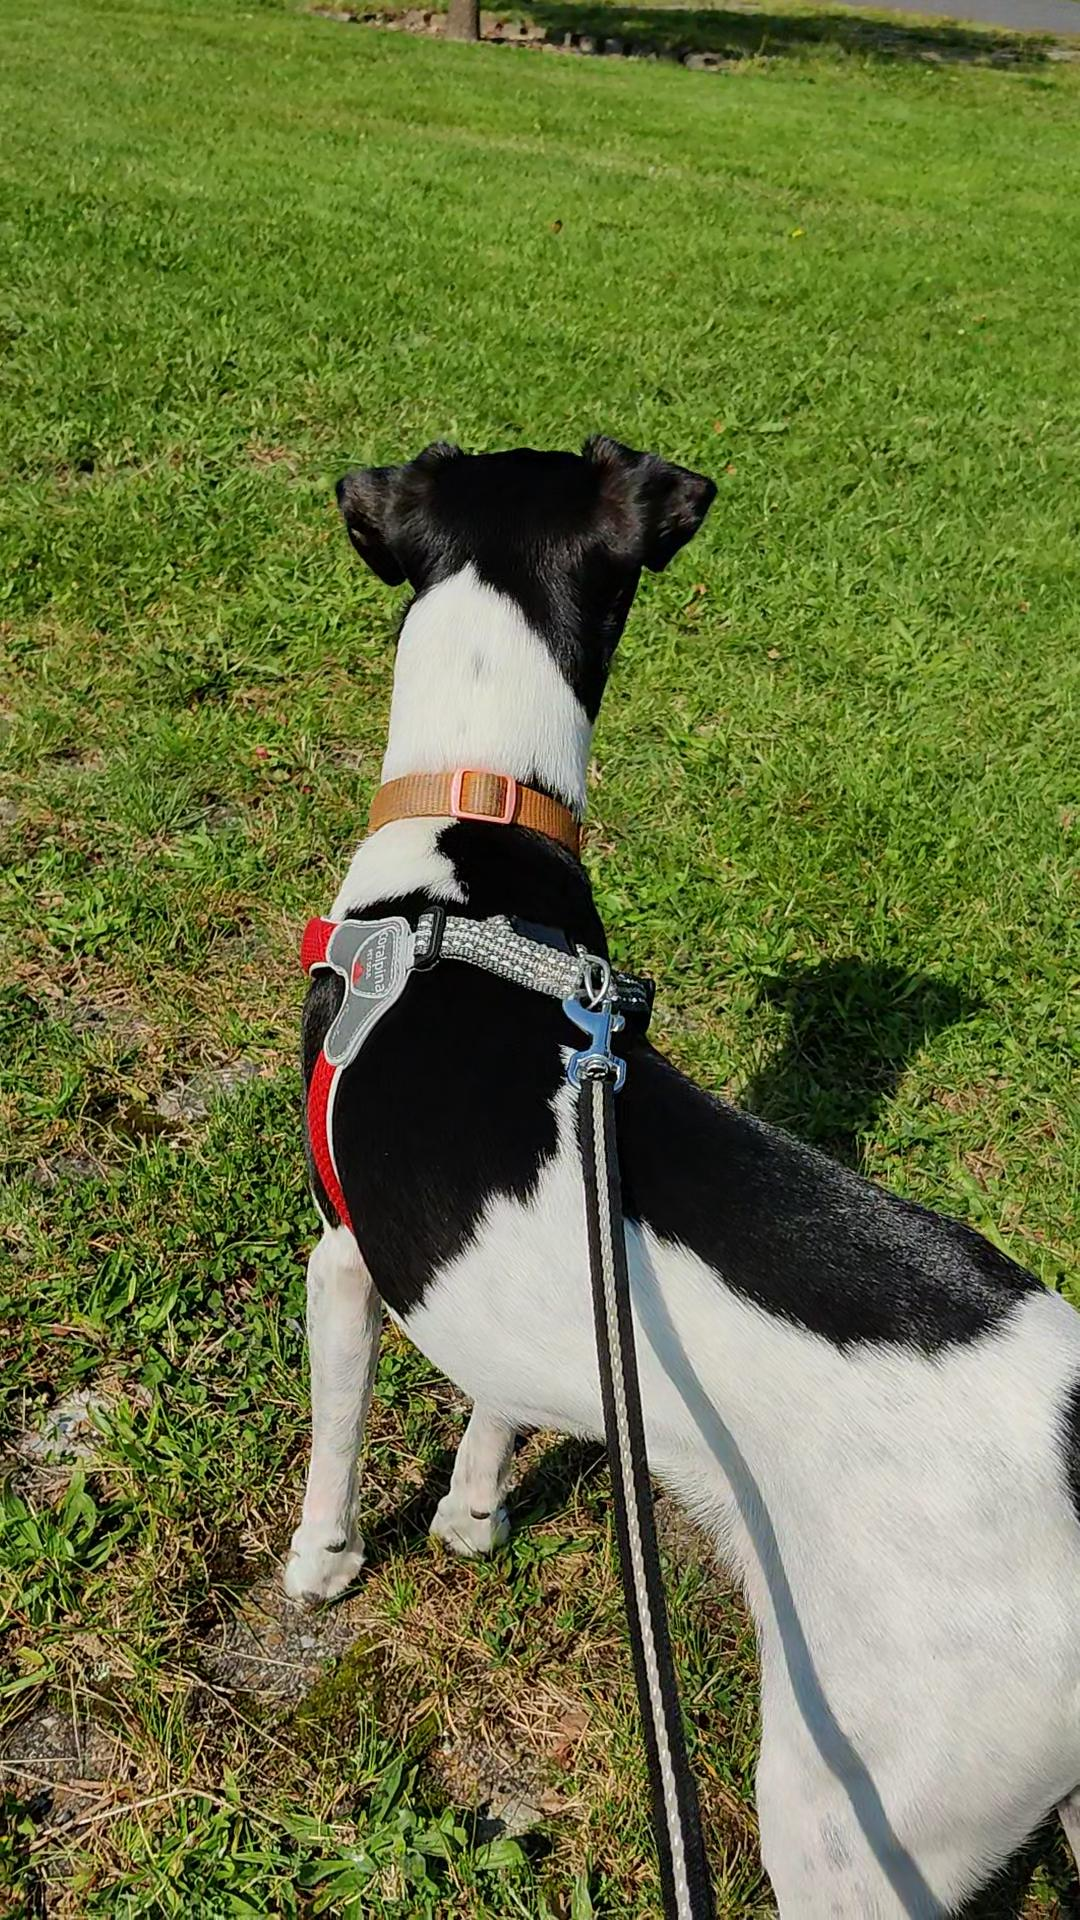Dog: (247, 360, 1079, 1919)
